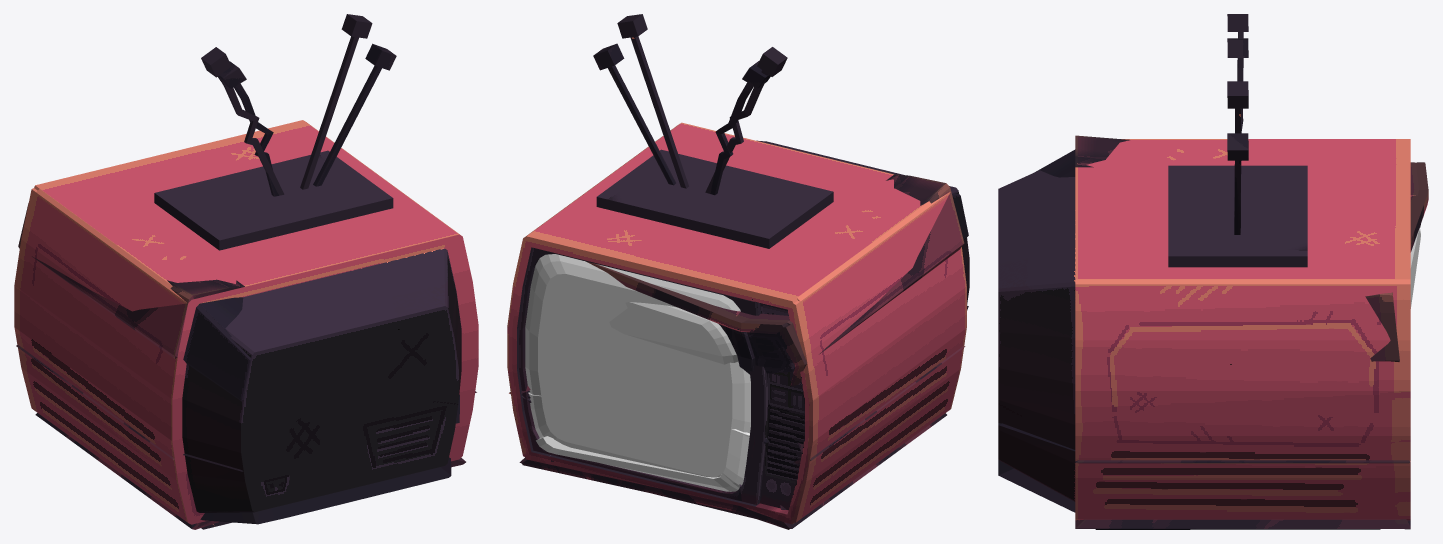
File: Tvs.glb
The picture shows the model from 3 angles, left to right: view 1: azimuth 30°, elevation 25°; view 2: azimuth 150°, elevation 25°; view 3: azimuth 270°, elevation 25°; orthographic projection. The views are drawn at different scales.
Parts seen in each view (by area): view 1: Tv_intact, Tv_Broke; view 2: Tv_intact, Tv_Broke; view 3: Tv_intact, Tv_Broke.
Boxes of the visible parts, x1,y1,x2,y2 form: Tv_intact: (14,14,478,529); Tv_Broke: (16,43,476,529); Tv_intact: (507,14,969,524); Tv_Broke: (509,43,968,529); Tv_intact: (998,14,1410,520); Tv_Broke: (998,38,1428,529).
Size of the model in its own units: 1.07 by 1.36 by 1.2.
3 materials, 2 textured.
